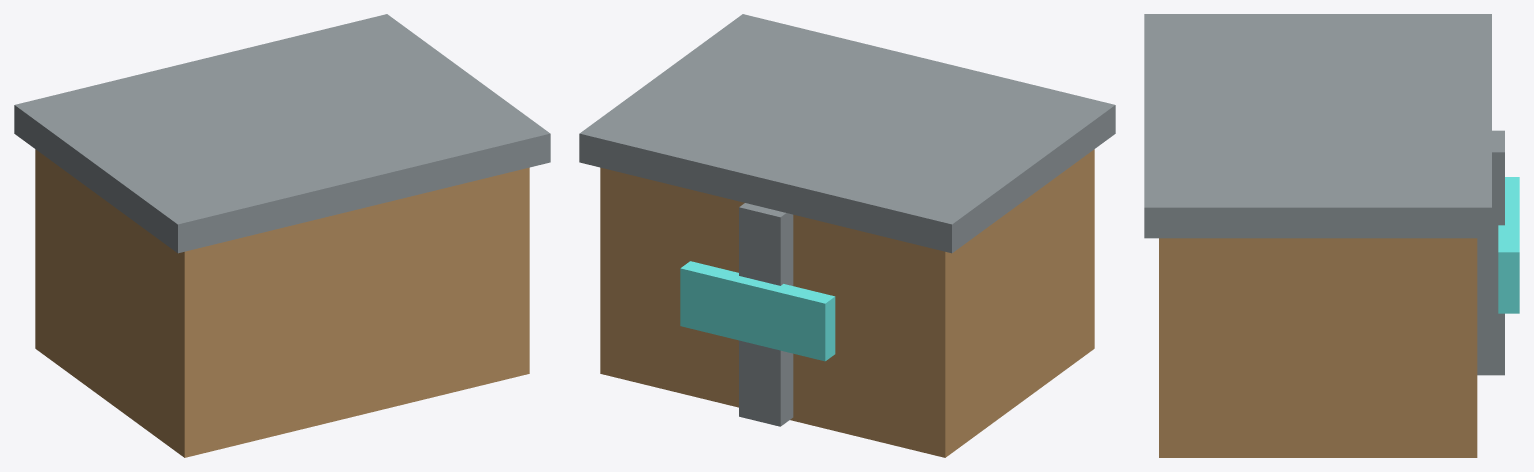
Rendered from voxel-shanghai-loot-crate.gltf.
3 renders of one model, left to right at view 1: azimuth 30°, elevation 25°; view 2: azimuth 150°, elevation 25°; view 3: azimuth 270°, elevation 25°, orthographic. The views are drawn at different scales.
Bounding box in the file's own units: 1.08 × 0.67 × 0.885.
